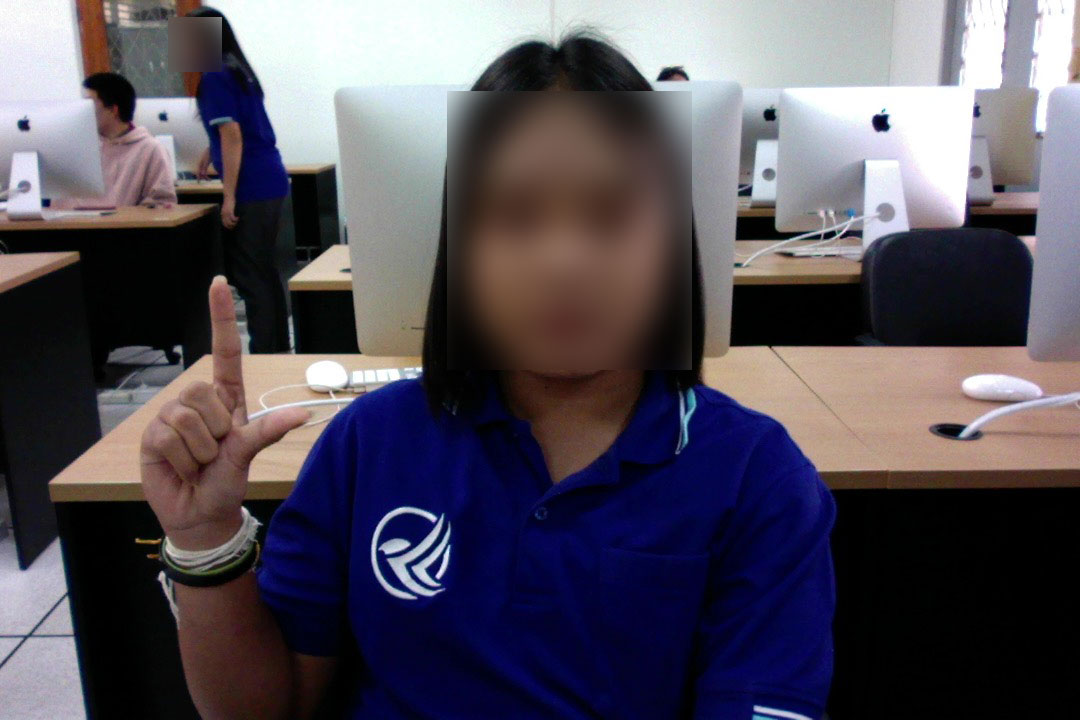lor: (133, 267, 317, 553)
